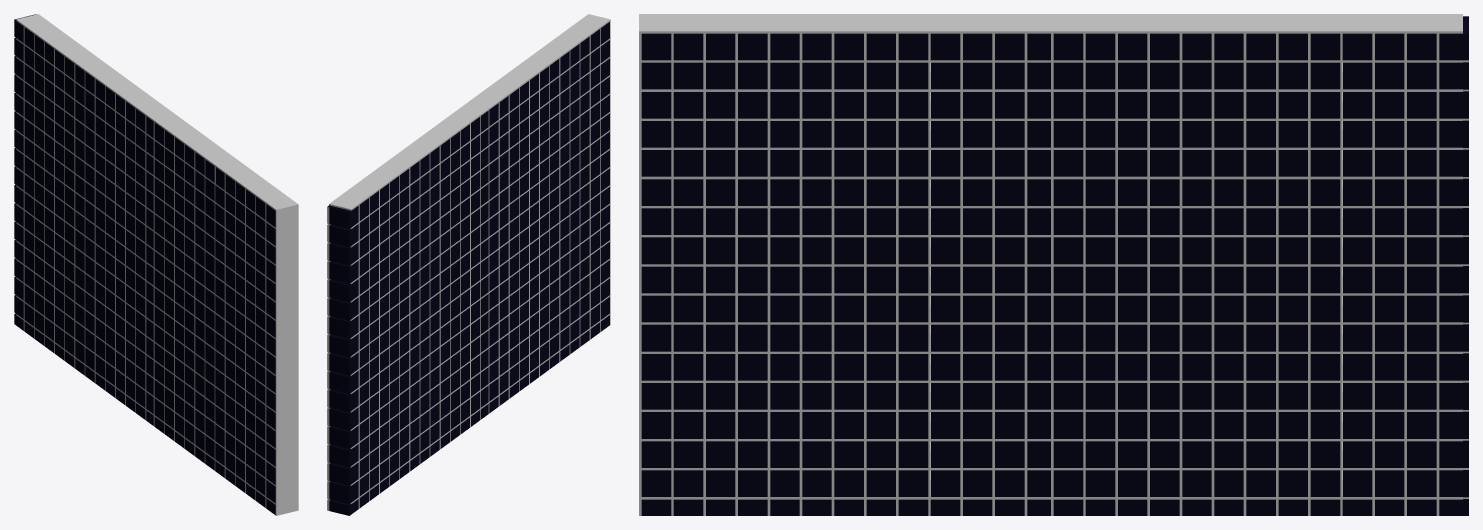
File: ParedeEntrada2.obj
3 views of the same model, side by side, from view 1: azimuth 30°, elevation 25°; view 2: azimuth 150°, elevation 25°; view 3: azimuth 270°, elevation 25° (orthographic). The views are drawn at different scales.
Visible parts, largest first — view 1: Cube.520_Cube.603, Cube.503_Cube.586, Cube.502_Cube.585, Cube.532_Cube.615, Cube.530_Cube.613, Cube.481_Cube.564, Cube.475_Cube.558, Cube.524_Cube.607, Cube.480_Cube.563, Cube.525_Cube.608, Cube.526_Cube.609, Cube.485_Cube.568 (+5 smaller); view 2: Cube.502_Cube.585, Cube.503_Cube.586, Cube.027_Cube.098, Cube.530_Cube.613, Cube.475_Cube.558, Cube.480_Cube.563, Cube.481_Cube.564, Cube.529_Cube.612, Cube.531_Cube.614, Cube.523_Cube.606, Cube.478_Cube.561, Cube.522_Cube.605 (+3 smaller); view 3: Cube.503_Cube.586, Cube.502_Cube.585, Cube.526_Cube.609, Cube.479_Cube.562, Cube.527_Cube.610, Cube.530_Cube.613, Cube.478_Cube.561, Cube.475_Cube.558, Cube.524_Cube.607, Cube.481_Cube.564, Cube.496_Cube.579, Cube.509_Cube.592 (+48 smaller).
Part boxes in pixels (x1,y1,x2,y2): Cube.520_Cube.603: (275, 206, 298, 515); Cube.503_Cube.586: (146, 109, 298, 211); Cube.502_Cube.585: (16, 14, 168, 115); Cube.532_Cube.615: (194, 151, 195, 456); Cube.530_Cube.613: (153, 122, 154, 426); Cube.481_Cube.564: (84, 71, 85, 375); Cube.475_Cube.558: (23, 27, 24, 331); Cube.524_Cube.607: (214, 166, 215, 470); Cube.480_Cube.563: (74, 64, 75, 368); Cube.525_Cube.608: (204, 159, 205, 463); Cube.526_Cube.609: (224, 174, 225, 478); Cube.485_Cube.568: (145, 116, 146, 420); Cube.502_Cube.585: (329, 109, 480, 210); Cube.503_Cube.586: (459, 14, 610, 115); Cube.027_Cube.098: (327, 207, 330, 510); Cube.530_Cube.613: (488, 110, 489, 413); Cube.475_Cube.558: (358, 205, 359, 508); Cube.480_Cube.563: (409, 168, 410, 471); Cube.481_Cube.564: (419, 160, 420, 464); Cube.529_Cube.612: (508, 95, 509, 398); Cube.531_Cube.614: (498, 102, 499, 406); Cube.523_Cube.606: (589, 36, 590, 339); Cube.478_Cube.561: (439, 145, 440, 449); Cube.522_Cube.605: (579, 43, 580, 346); Cube.503_Cube.586: (639, 14, 1050, 33); Cube.502_Cube.585: (1051, 14, 1462, 33); Cube.526_Cube.609: (799, 33, 802, 515); Cube.479_Cube.562: (1211, 33, 1214, 515); Cube.527_Cube.610: (767, 33, 770, 515); Cube.530_Cube.613: (1024, 33, 1027, 515); Cube.478_Cube.561: (1179, 33, 1182, 515); Cube.475_Cube.558: (1436, 33, 1439, 515); Cube.524_Cube.607: (831, 33, 834, 515); Cube.481_Cube.564: (1243, 33, 1246, 515); Cube.496_Cube.579: (1051, 160, 1462, 179); Cube.509_Cube.592: (639, 160, 1050, 179).
Bounding box in the file's own units: 0.2541 × 3.33 × 5.17.
